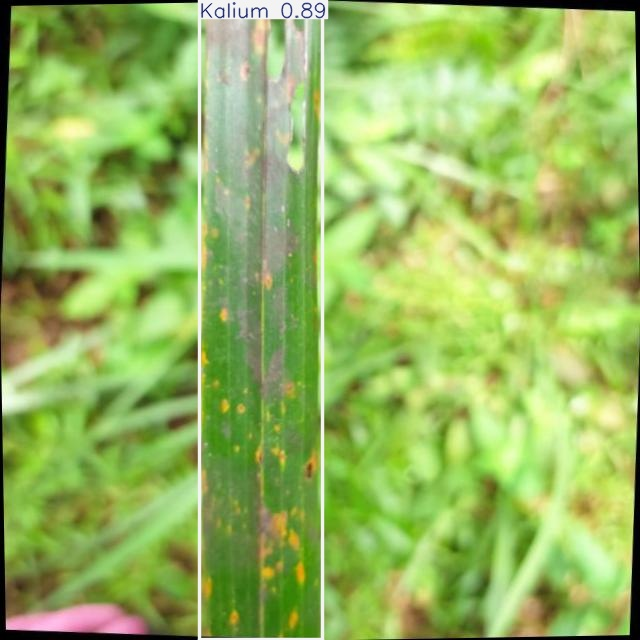Kalium: (200, 0, 323, 640)
